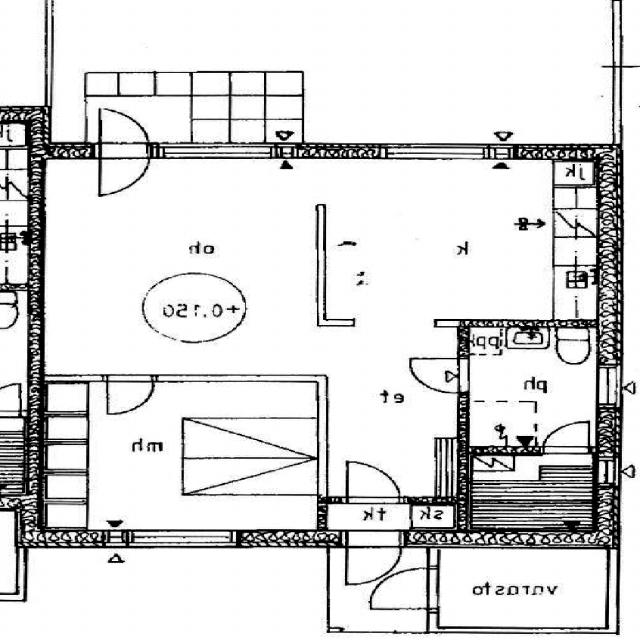door: (368, 568, 440, 609), (349, 530, 402, 584), (100, 110, 150, 159), (100, 143, 150, 192), (349, 462, 401, 504), (409, 358, 470, 392), (544, 415, 589, 455), (108, 375, 153, 412)
